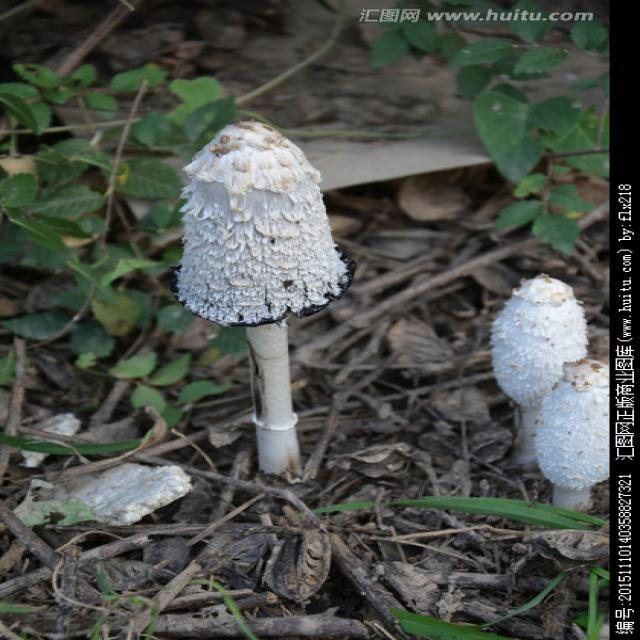Coprinus comatus: (182, 120, 346, 472), (530, 358, 611, 513), (492, 275, 589, 400)
